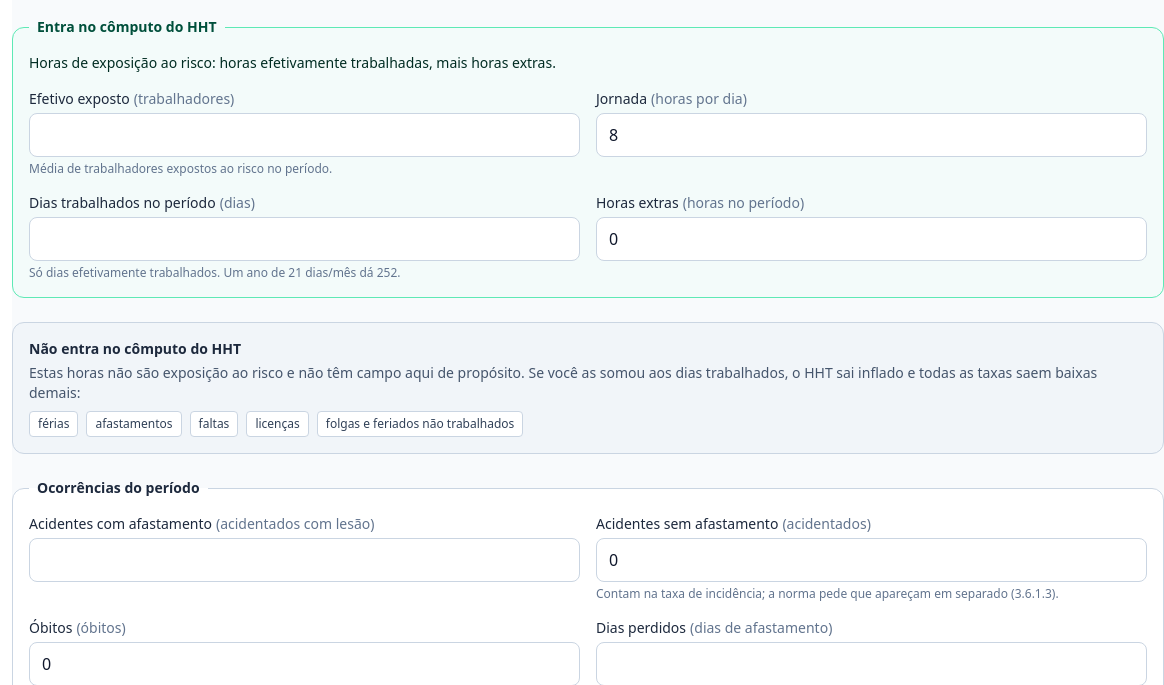
Test: validação de campo › recusa mais óbitos do que acidentes com afastamento
The image size is (1164, 685).
Step 1. Type "1" into the field labelled "Acidentes com afastamento(acidentados com lesão)" → (304, 560), box [29,538,580,582]
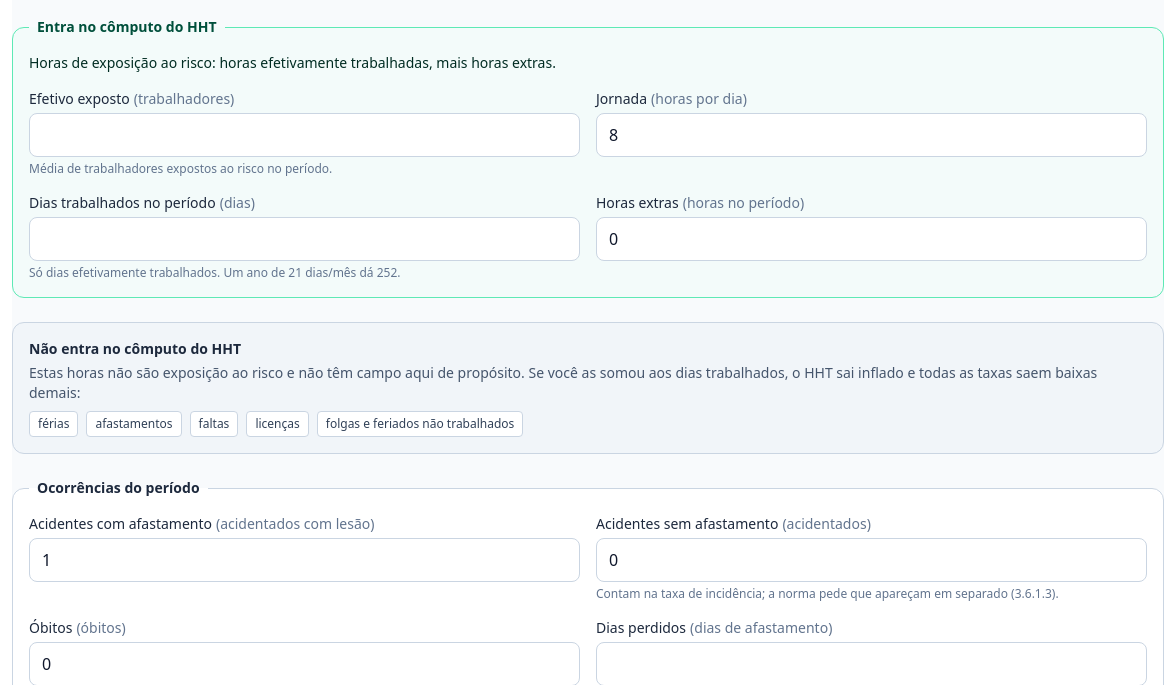
Step 2. Replace the text in the field labelled "Óbitos(óbitos)" with "3" → (304, 664), box [29,642,580,684]
(page scrolled)
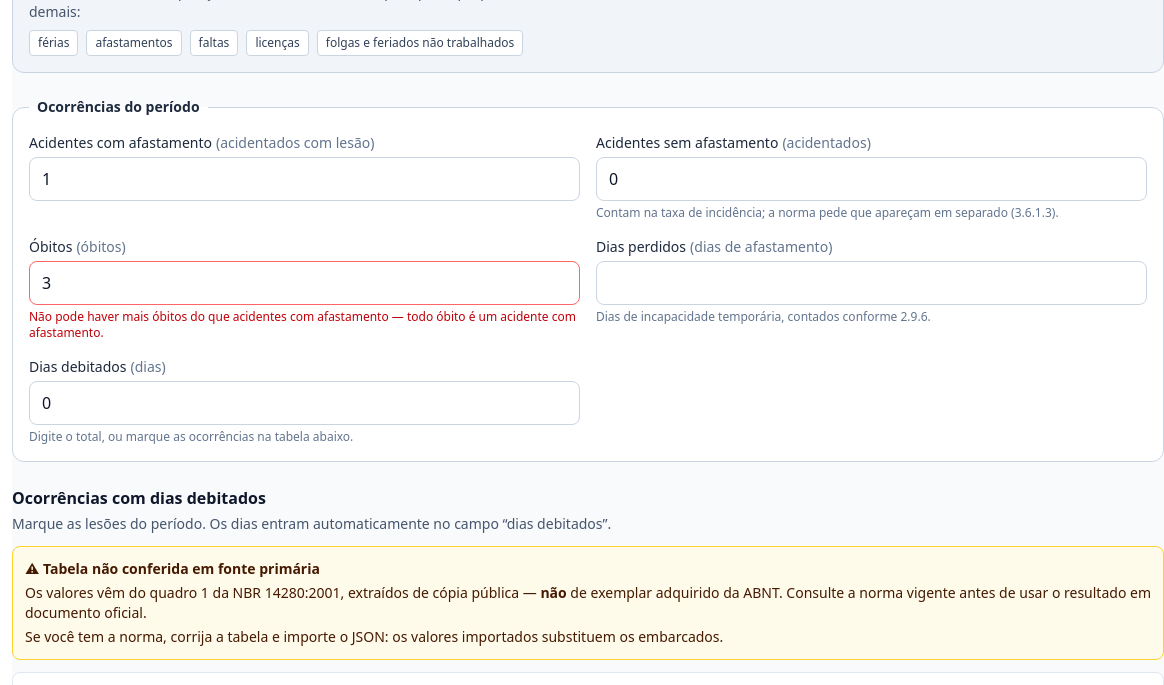
Now the text "mais óbitos do que acidentes com afastamento" is shown, box [29,308,576,341]
